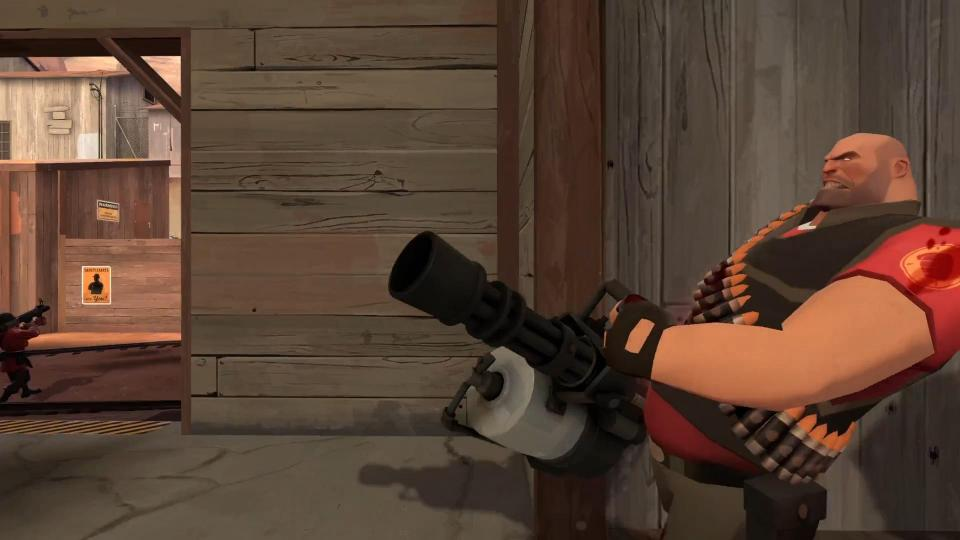Enemy: (385, 129, 959, 540), (0, 296, 51, 402)
